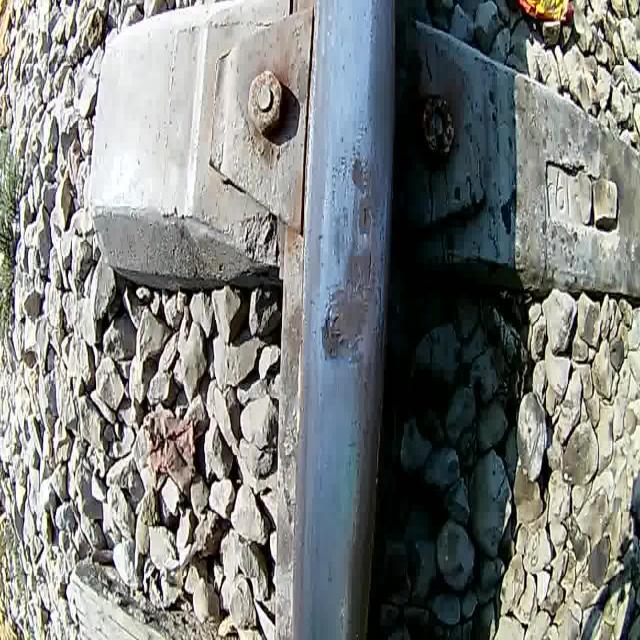Cracks: (364, 242, 376, 292), (360, 197, 369, 233)
Spallings: (322, 301, 345, 367)
Squats: (317, 145, 382, 374)
